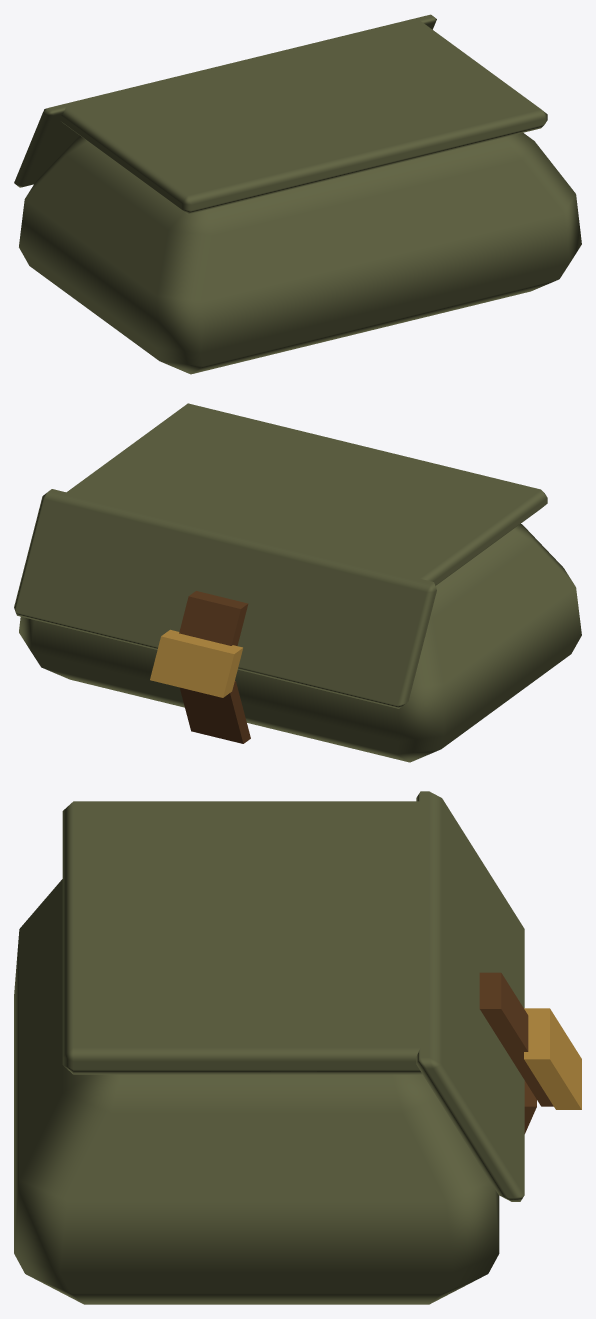
File: item_pouch.glb
The picture shows the model from 3 angles, top to bottom: view 1: azimuth 30°, elevation 25°; view 2: azimuth 150°, elevation 25°; view 3: azimuth 270°, elevation 25°; orthographic projection. The views are drawn at different scales.
Visible parts, largest first — view 1: Pouch; view 2: Pouch; view 3: Pouch.
Part boxes in pixels (<box>): Pouch: <box>14,14,581,374</box>; Pouch: <box>14,403,581,762</box>; Pouch: <box>14,791,581,1304</box>.
Size of what is drawn, in the model's own units: 0.3251 by 0.134 by 0.2634.
